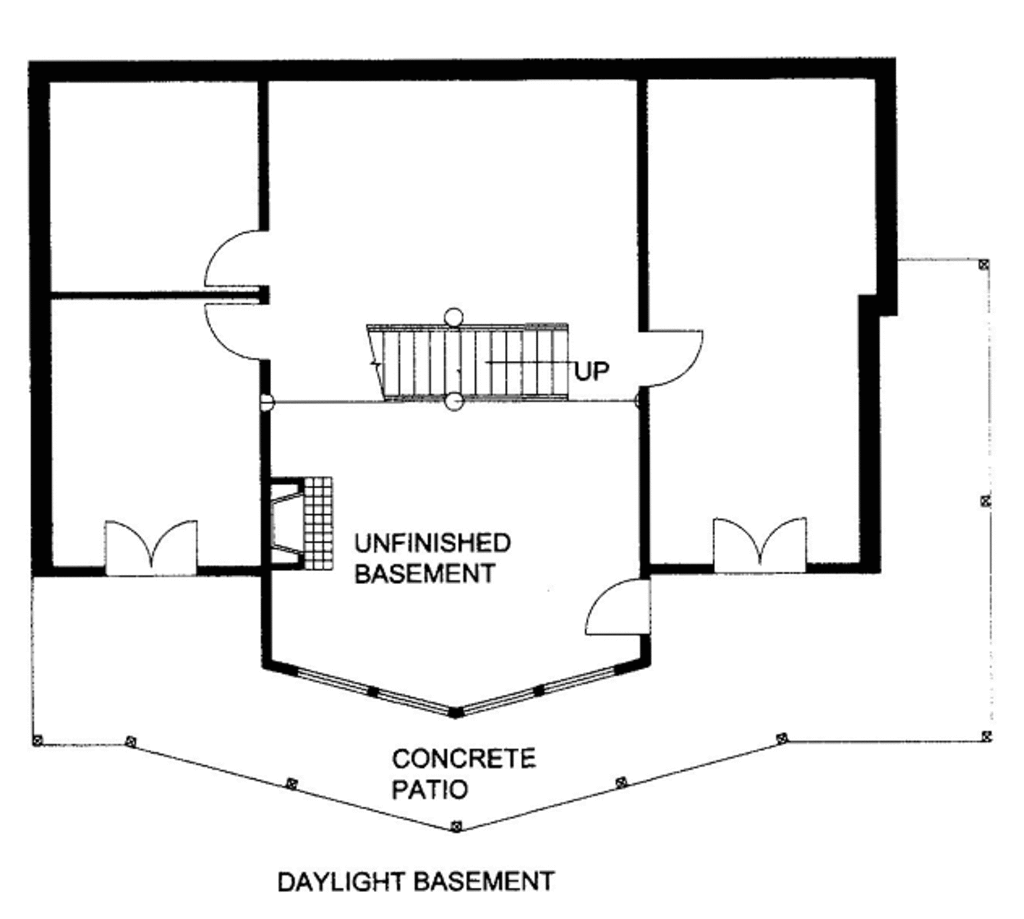door: (704, 508, 811, 580), (94, 513, 205, 574), (579, 578, 655, 641), (639, 331, 708, 397), (198, 303, 271, 365), (194, 231, 272, 283)
stairs: (369, 327, 575, 407)
